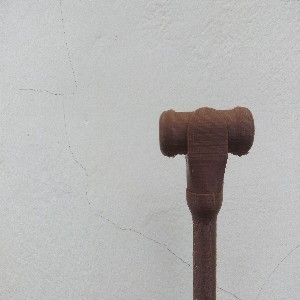palu: (157, 105, 256, 300)
